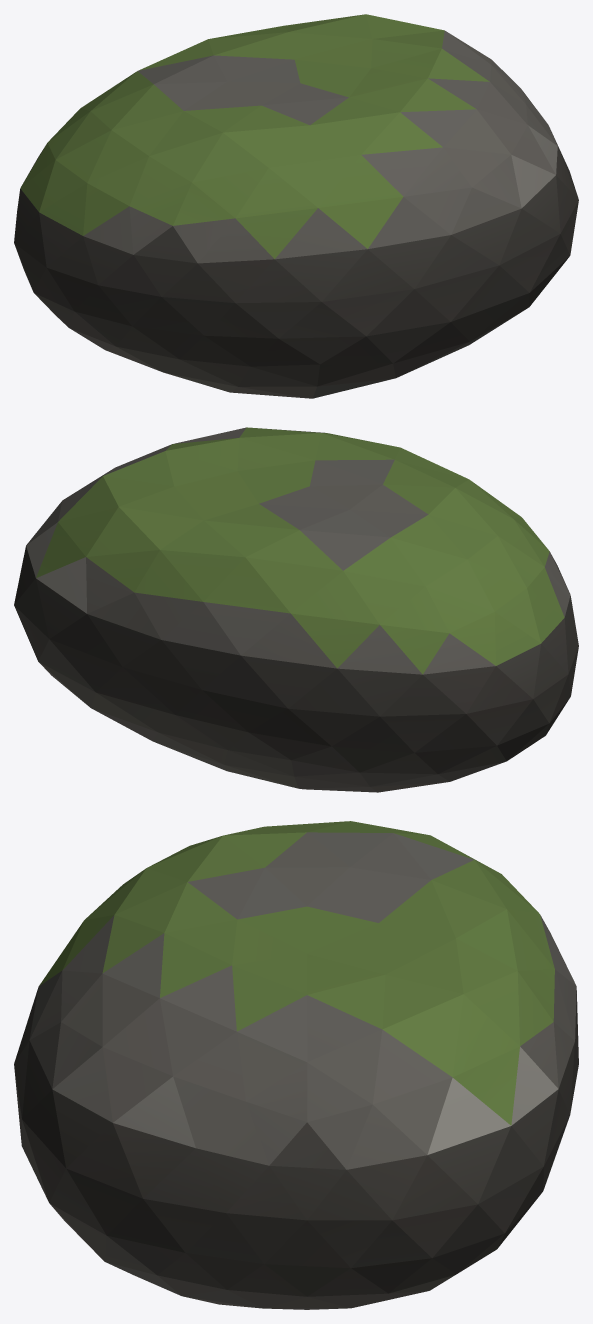
File: creek_stone_a.glb
3 views of the same model, one above another, from view 1: azimuth 30°, elevation 25°; view 2: azimuth 150°, elevation 25°; view 3: azimuth 270°, elevation 25° (orthographic). The views are drawn at different scales.
Parts seen in each view (by area): view 1: creek_stone_a; view 2: creek_stone_a; view 3: creek_stone_a.
Boxes of the visible parts, x1,y1,x2,y2 form: creek_stone_a: [14, 14, 578, 398]; creek_stone_a: [14, 427, 578, 792]; creek_stone_a: [14, 821, 578, 1309].
Bounding box in the file's own units: 0.9017 × 0.4922 × 0.6822.
